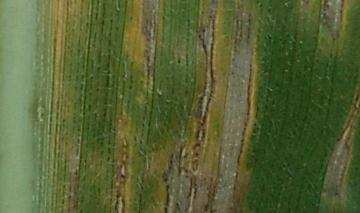tarspot: (175, 56, 182, 65), (66, 193, 74, 199), (196, 34, 202, 39), (201, 28, 206, 33)
